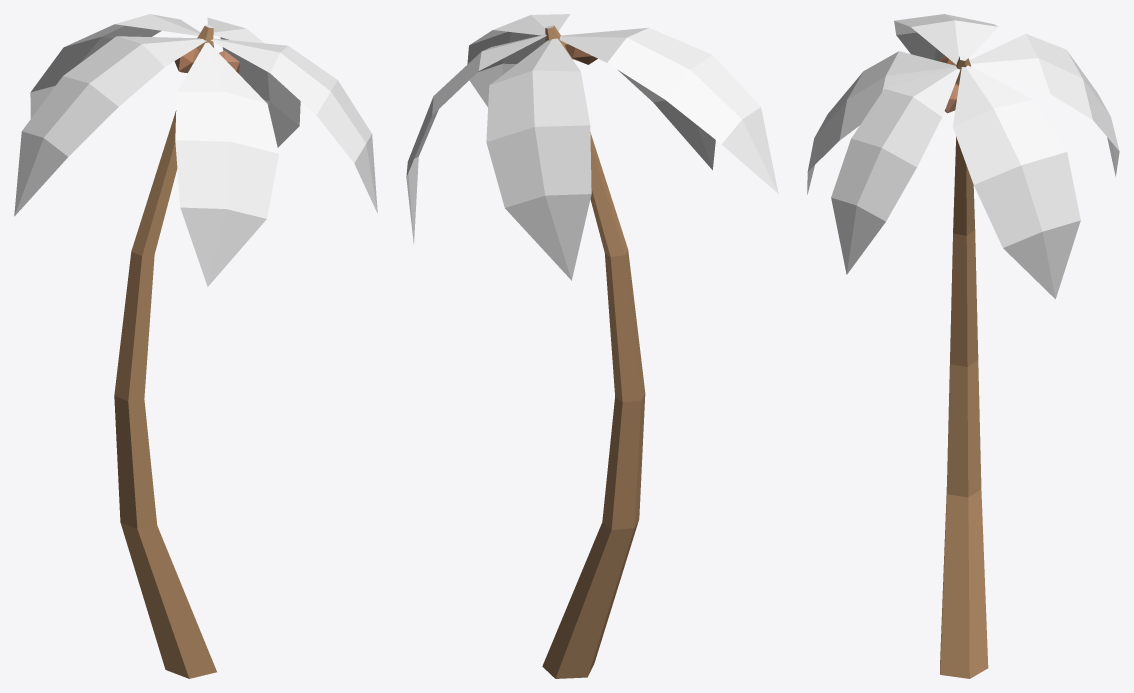
File: Palm_Tree_Coconut_OneSided_s_Snow_03_LOD.fbx
The picture shows the model from 3 angles, left to right: view 1: azimuth 30°, elevation 25°; view 2: azimuth 150°, elevation 25°; view 3: azimuth 270°, elevation 25°; orthographic projection. The views are drawn at different scales.
Parts seen in each view (by area): view 1: Palm_Tree_Coconut_OneSided_s_Snow_03_LOD0; view 2: Palm_Tree_Coconut_OneSided_s_Snow_03_LOD0; view 3: Palm_Tree_Coconut_OneSided_s_Snow_03_LOD0.
Part boxes in pixels (x1,y1,x2,y2): Palm_Tree_Coconut_OneSided_s_Snow_03_LOD0: (14, 14, 377, 678); Palm_Tree_Coconut_OneSided_s_Snow_03_LOD0: (406, 14, 778, 678); Palm_Tree_Coconut_OneSided_s_Snow_03_LOD0: (807, 14, 1119, 678).
Size of what is drawn, in the model's own units: 236 by 431 by 196.
